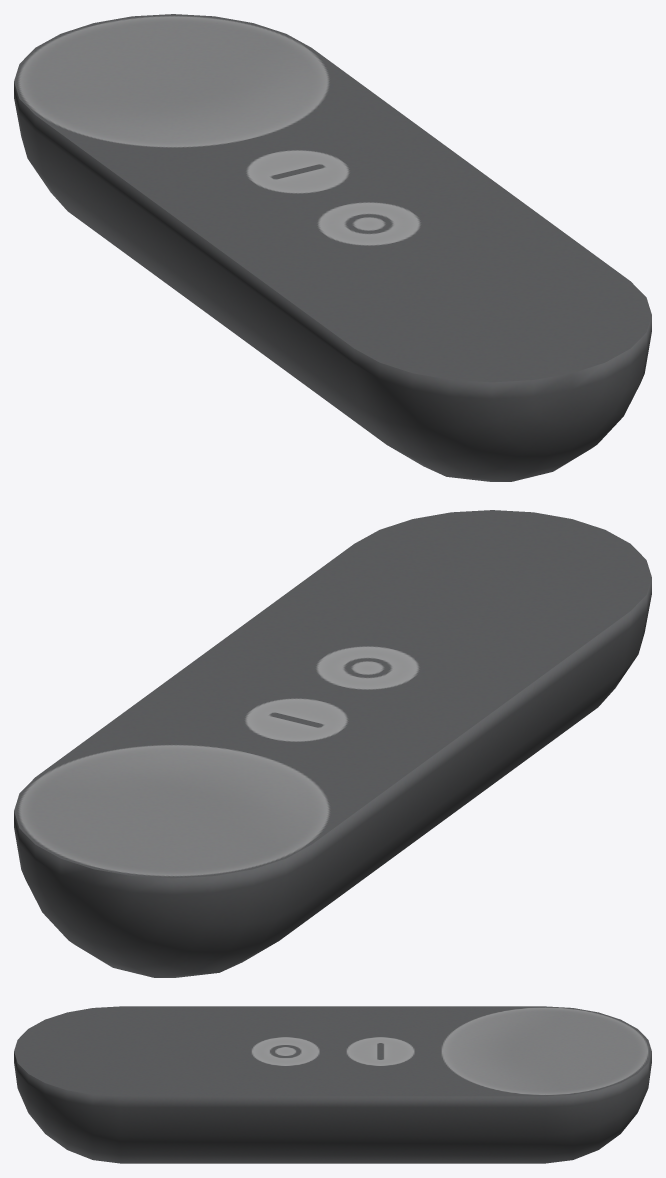
3 views of the same model, one above another, from view 1: azimuth 30°, elevation 25°; view 2: azimuth 150°, elevation 25°; view 3: azimuth 270°, elevation 25° (orthographic). The views are drawn at different scales.
Visible parts, largest first — view 1: controller; view 2: controller; view 3: controller.
Boxes of the visible parts, x1=… form: controller: x1=14, y1=14, x2=651, y2=481; controller: x1=14, y1=510, x2=651, y2=977; controller: x1=14, y1=1006, x2=651, y2=1163.
Bounding box in the file's own units: 0.0345 × 0.018 × 0.1036.
Materials: 1 (1 with a texture image).
